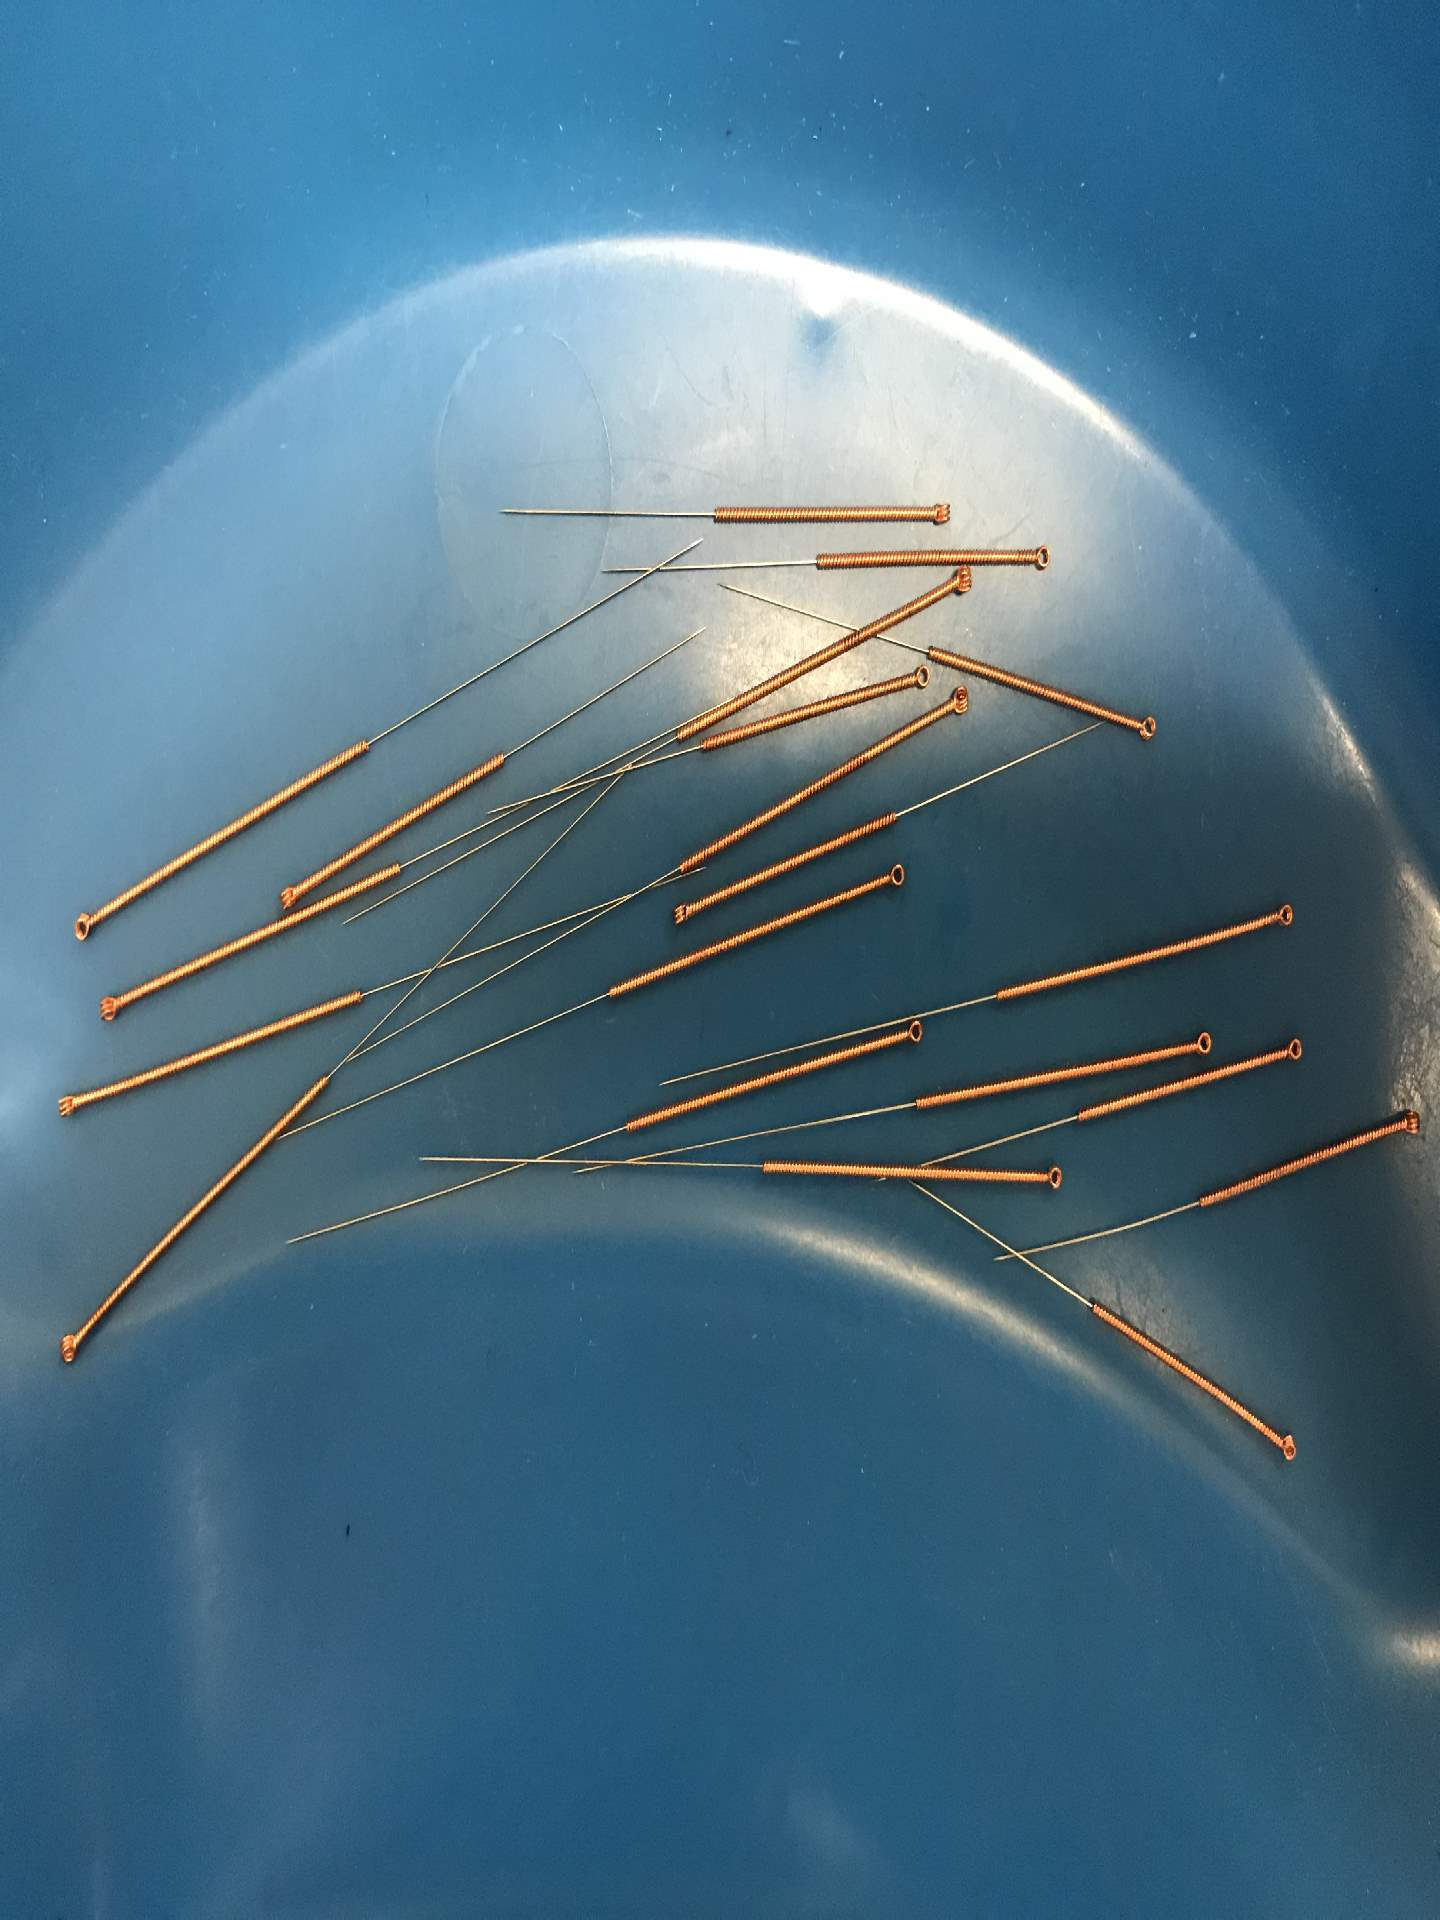needle: (1266, 1423, 1305, 1471), (48, 1326, 88, 1373), (64, 906, 103, 949), (1124, 706, 1165, 747), (939, 559, 979, 602), (874, 856, 914, 898), (91, 986, 130, 1028), (1262, 893, 1301, 934), (1181, 1023, 1221, 1064), (1268, 1030, 1310, 1067), (663, 890, 699, 934), (48, 1085, 86, 1126), (941, 679, 977, 721), (895, 1016, 933, 1055), (917, 494, 957, 531), (1033, 1157, 1069, 1197), (1389, 1102, 1425, 1141), (269, 877, 306, 916), (898, 659, 936, 695), (1021, 538, 1057, 574)
